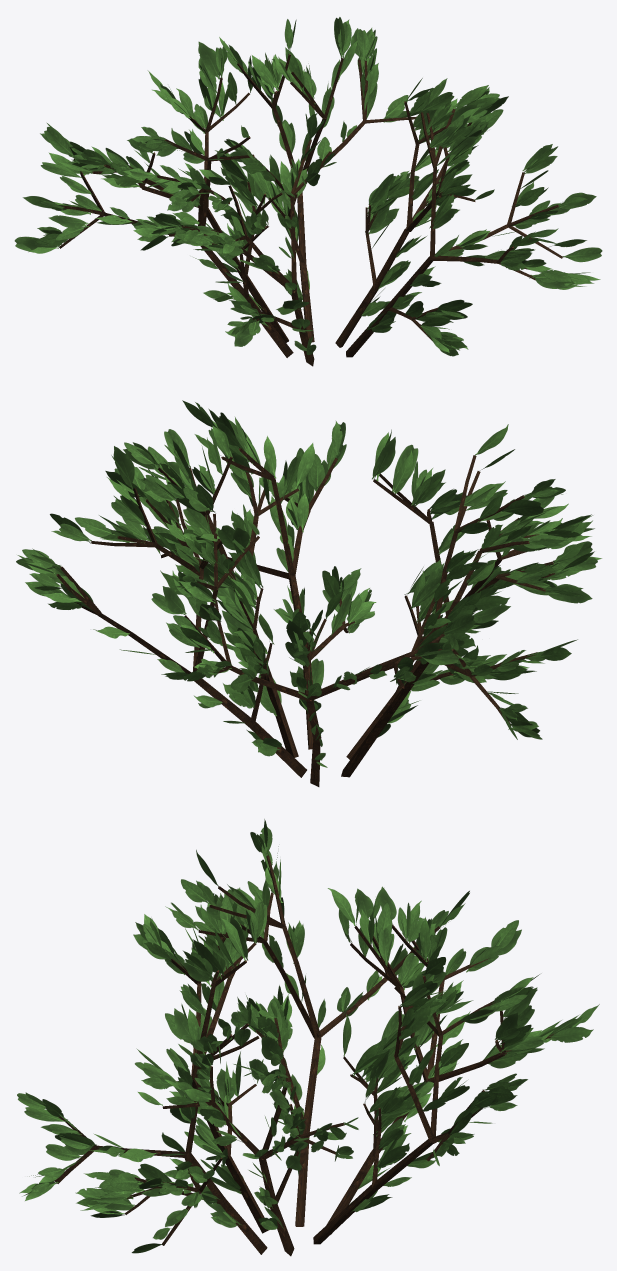
File: sumac_scrub_v01_LOD1.glb
3 renders of one model, top to bottom at view 1: azimuth 30°, elevation 25°; view 2: azimuth 150°, elevation 25°; view 3: azimuth 270°, elevation 25°, orthographic. The views are drawn at different scales.
Visible parts, largest first — view 1: sumac_scrub_v01_LOD1; view 2: sumac_scrub_v01_LOD1; view 3: sumac_scrub_v01_LOD1.
Part boxes in pixels (x1,y1,x2,y2): sumac_scrub_v01_LOD1: (14, 17, 602, 366); sumac_scrub_v01_LOD1: (16, 400, 601, 786); sumac_scrub_v01_LOD1: (17, 819, 599, 1256).
Bounding box in the file's own units: 2.27 × 1.32 × 2.15.
Materials: 2 (2 with a texture image).
